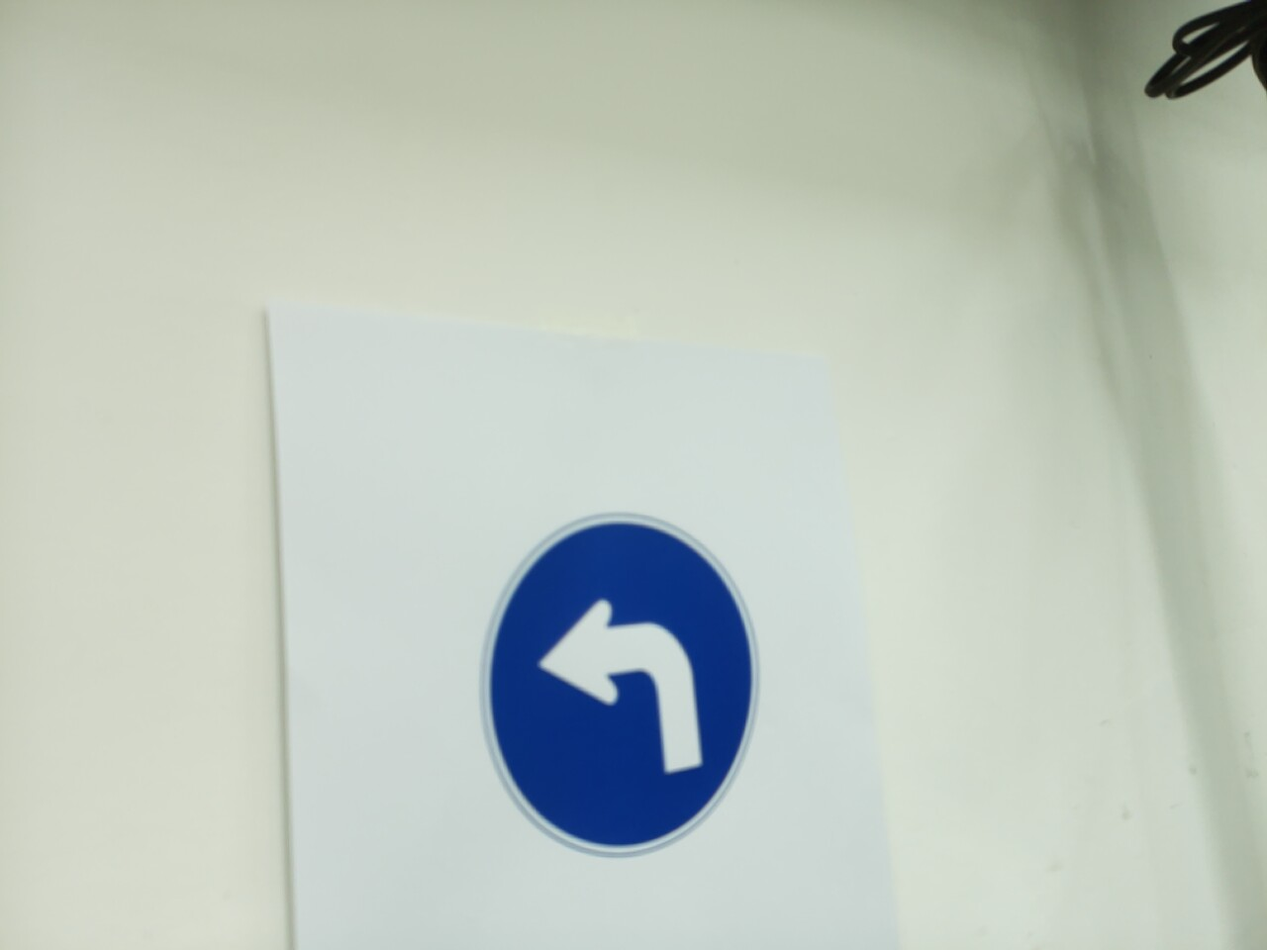left_turn: (481, 513, 761, 857)
